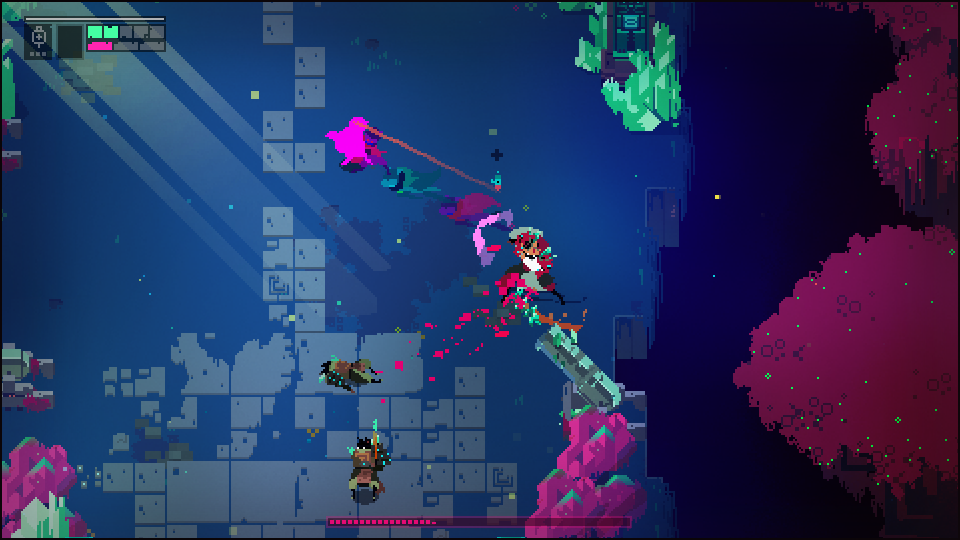hanged_man: (491, 222, 573, 330)
player: (324, 112, 377, 173)
